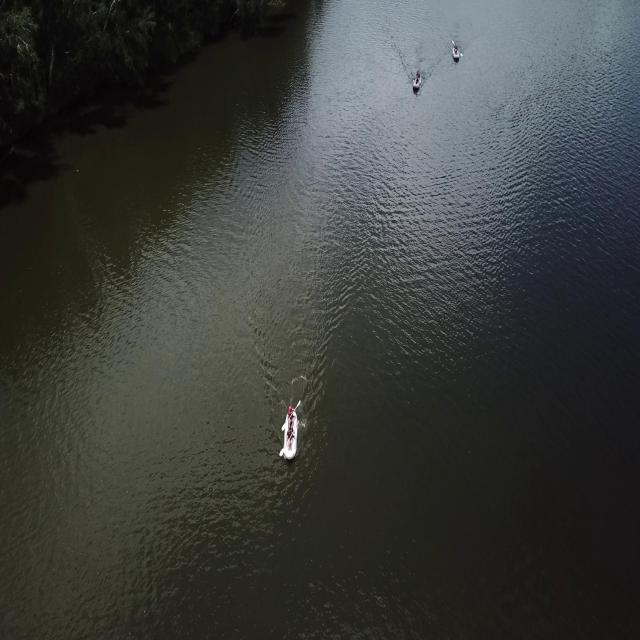kayak: (279, 404, 302, 466), (411, 70, 423, 96), (450, 42, 462, 64)
